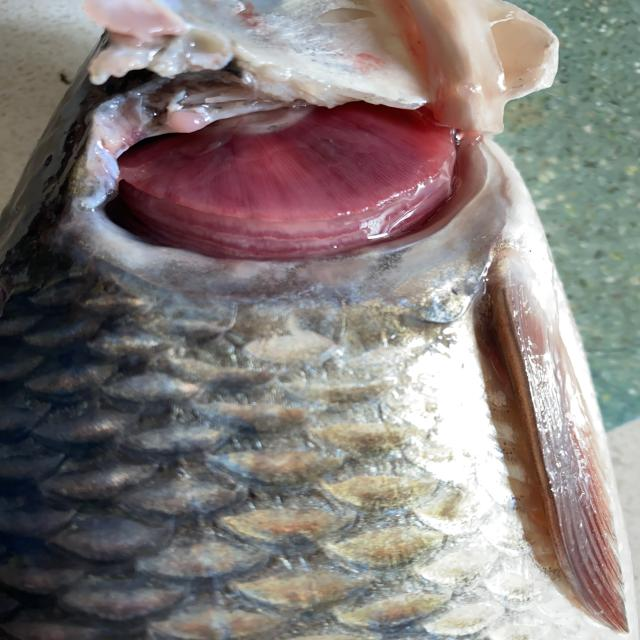Fresh: (74, 59, 511, 284)
